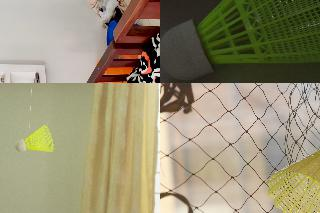shuttlecock: (160, 0, 319, 80), (267, 130, 319, 212), (15, 124, 53, 152)
